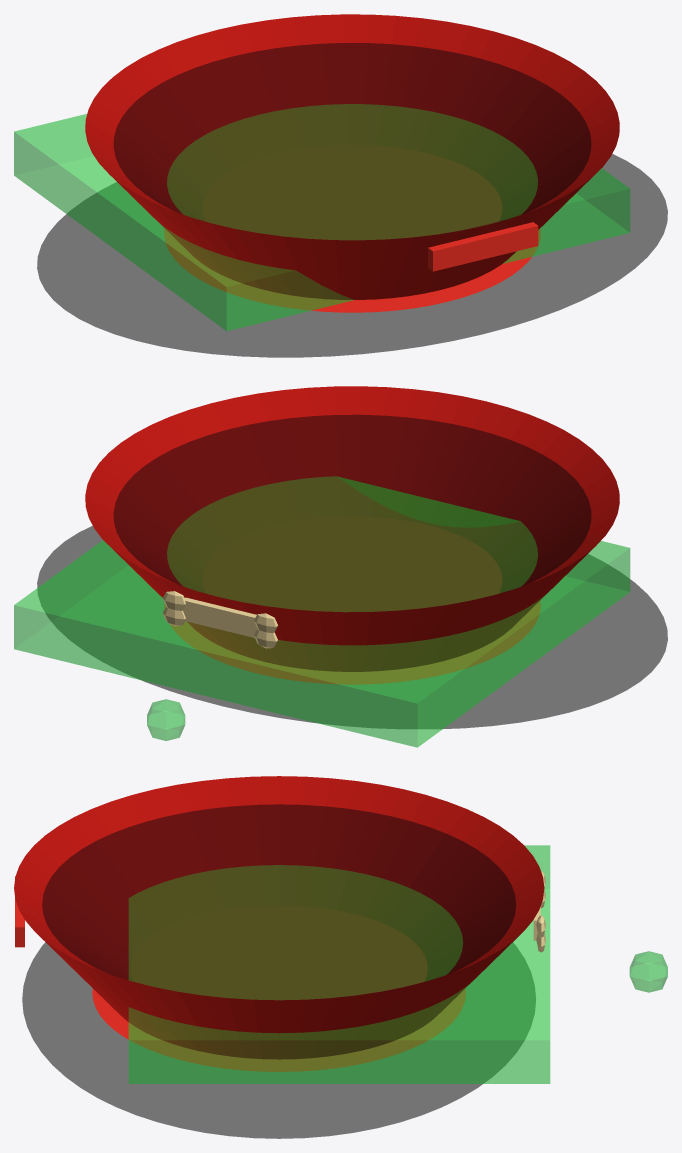
Rendered from empty_dog_bowl.obj.
3 renders of one model, top to bottom at view 1: azimuth 30°, elevation 25°; view 2: azimuth 150°, elevation 25°; view 3: azimuth 270°, elevation 25°, orthographic.
Parts seen in each view (by area): view 1: Guide_Empty_Bowl_State_delete_or_hide, Empty_dog_bowl_inner_dark_red_wall, Subtle_empty_bowl_floor_shadow, Empty_dog_bowl_visible_empty_bottom, Empty_dog_bowl_thick_rounded_top_rim, Empty_dog_bowl_outer_red_plastic_shell, Empty_dog_bowl_bottom_foot_ring, Bowl_back_small_handle_tab; view 2: Guide_Empty_Bowl_State_delete_or_hide, Empty_dog_bowl_inner_dark_red_wall, Subtle_empty_bowl_floor_shadow, Empty_dog_bowl_visible_empty_bottom, Empty_dog_bowl_thick_rounded_top_rim, Empty_dog_bowl_outer_red_plastic_shell, Empty_dog_bowl_bottom_foot_ring, Bowl_front_label_small_bone_center, Guide_Interaction_Point_CheckEmptyBowl; view 3: Guide_Empty_Bowl_State_delete_or_hide, Empty_dog_bowl_inner_dark_red_wall, Subtle_empty_bowl_floor_shadow, Empty_dog_bowl_visible_empty_bottom, Empty_dog_bowl_thick_rounded_top_rim, Empty_dog_bowl_outer_red_plastic_shell, Empty_dog_bowl_bottom_foot_ring, Guide_Interaction_Point_CheckEmptyBowl.
Part boxes in pixels (x1=…): Guide_Empty_Bowl_State_delete_or_hide: x1=14, y1=104, x2=630, y2=330; Empty_dog_bowl_inner_dark_red_wall: x1=113, y1=43, x2=591, y2=221; Subtle_empty_bowl_floor_shadow: x1=37, y1=154, x2=667, y2=357; Empty_dog_bowl_visible_empty_bottom: x1=202, y1=144, x2=502, y2=240; Empty_dog_bowl_thick_rounded_top_rim: x1=85, y1=14, x2=619, y2=212; Empty_dog_bowl_outer_red_plastic_shell: x1=109, y1=174, x2=591, y2=299; Empty_dog_bowl_bottom_foot_ring: x1=164, y1=229, x2=540, y2=312; Bowl_back_small_handle_tab: x1=428, y1=222, x2=538, y2=271; Guide_Empty_Bowl_State_delete_or_hide: x1=14, y1=476, x2=630, y2=747; Empty_dog_bowl_inner_dark_red_wall: x1=113, y1=414, x2=591, y2=593; Subtle_empty_bowl_floor_shadow: x1=37, y1=526, x2=667, y2=728; Empty_dog_bowl_visible_empty_bottom: x1=202, y1=516, x2=502, y2=612; Empty_dog_bowl_thick_rounded_top_rim: x1=85, y1=386, x2=619, y2=584; Empty_dog_bowl_outer_red_plastic_shell: x1=114, y1=546, x2=595, y2=671; Empty_dog_bowl_bottom_foot_ring: x1=164, y1=601, x2=540, y2=684; Bowl_front_label_small_bone_center: x1=183, y1=597, x2=257, y2=637; Guide_Interaction_Point_CheckEmptyBowl: x1=147, y1=699, x2=185, y2=740; Guide_Empty_Bowl_State_delete_or_hide: x1=128, y1=845, x2=550, y2=1083; Empty_dog_bowl_inner_dark_red_wall: x1=42, y1=804, x2=516, y2=981; Subtle_empty_bowl_floor_shadow: x1=22, y1=942, x2=535, y2=1138; Empty_dog_bowl_visible_empty_bottom: x1=130, y1=905, x2=427, y2=1000; Empty_dog_bowl_thick_rounded_top_rim: x1=14, y1=776, x2=544, y2=972; Empty_dog_bowl_outer_red_plastic_shell: x1=36, y1=933, x2=520, y2=1059; Empty_dog_bowl_bottom_foot_ring: x1=92, y1=989, x2=465, y2=1071; Guide_Interaction_Point_CheckEmptyBowl: x1=629, y1=951, x2=667, y2=992.
Size of what is drawn, in the model's own units: 1.64 by 0.306 by 1.63.
